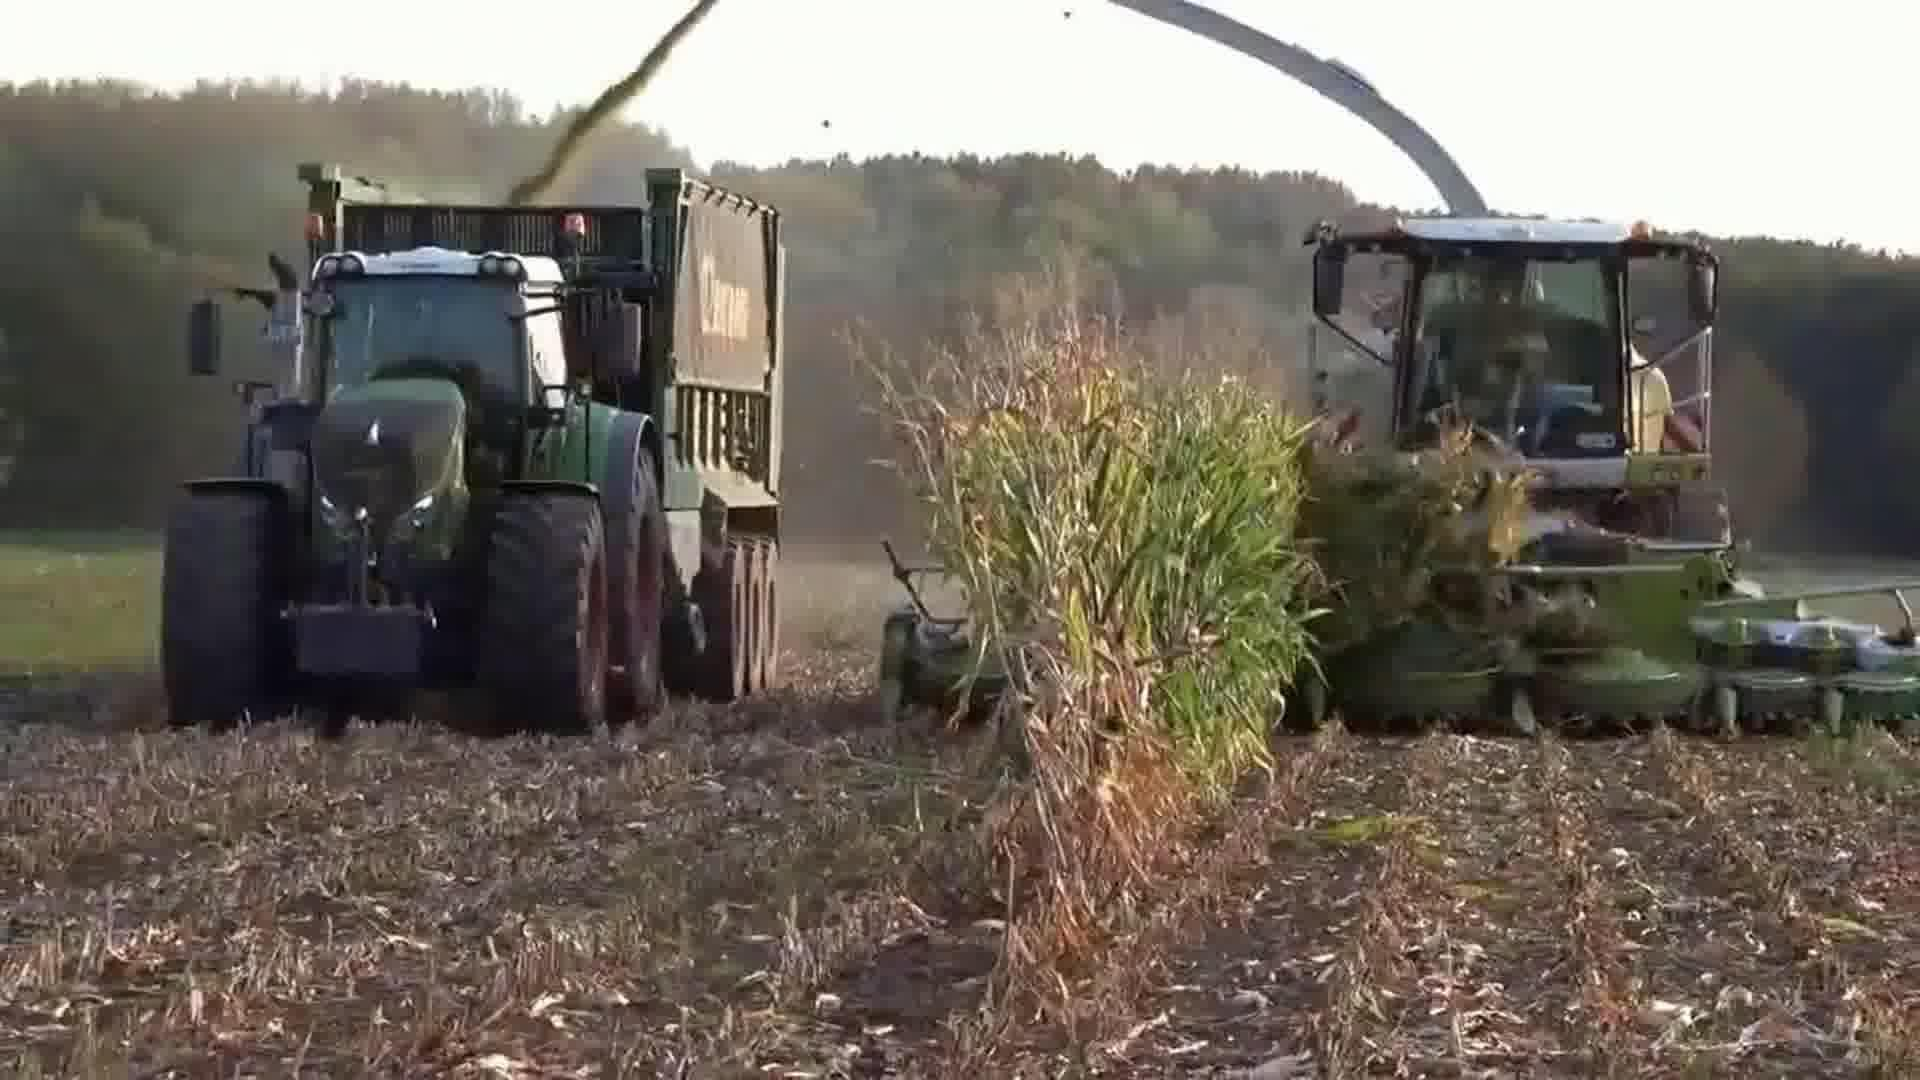combine harvester: (855, 0, 1920, 740)
tractor: (157, 206, 673, 743)
trailer: (291, 153, 790, 706)
